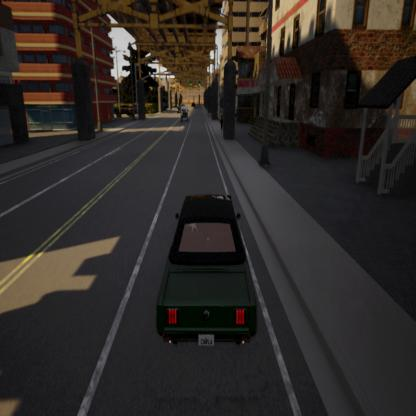Cars: (152, 181, 268, 374), (177, 103, 194, 128)
